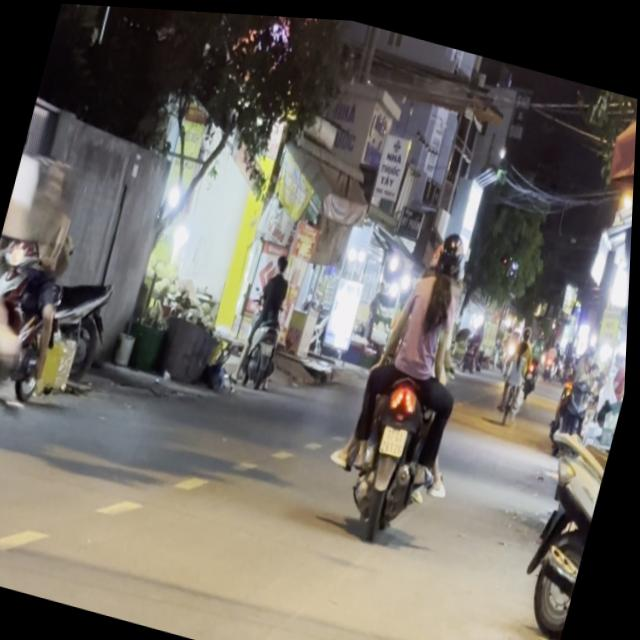helmet: (434, 220, 470, 273)
licenseplate: (0, 0, 140, 587), (324, 201, 505, 548)
nohelmet: (381, 418, 411, 452)
